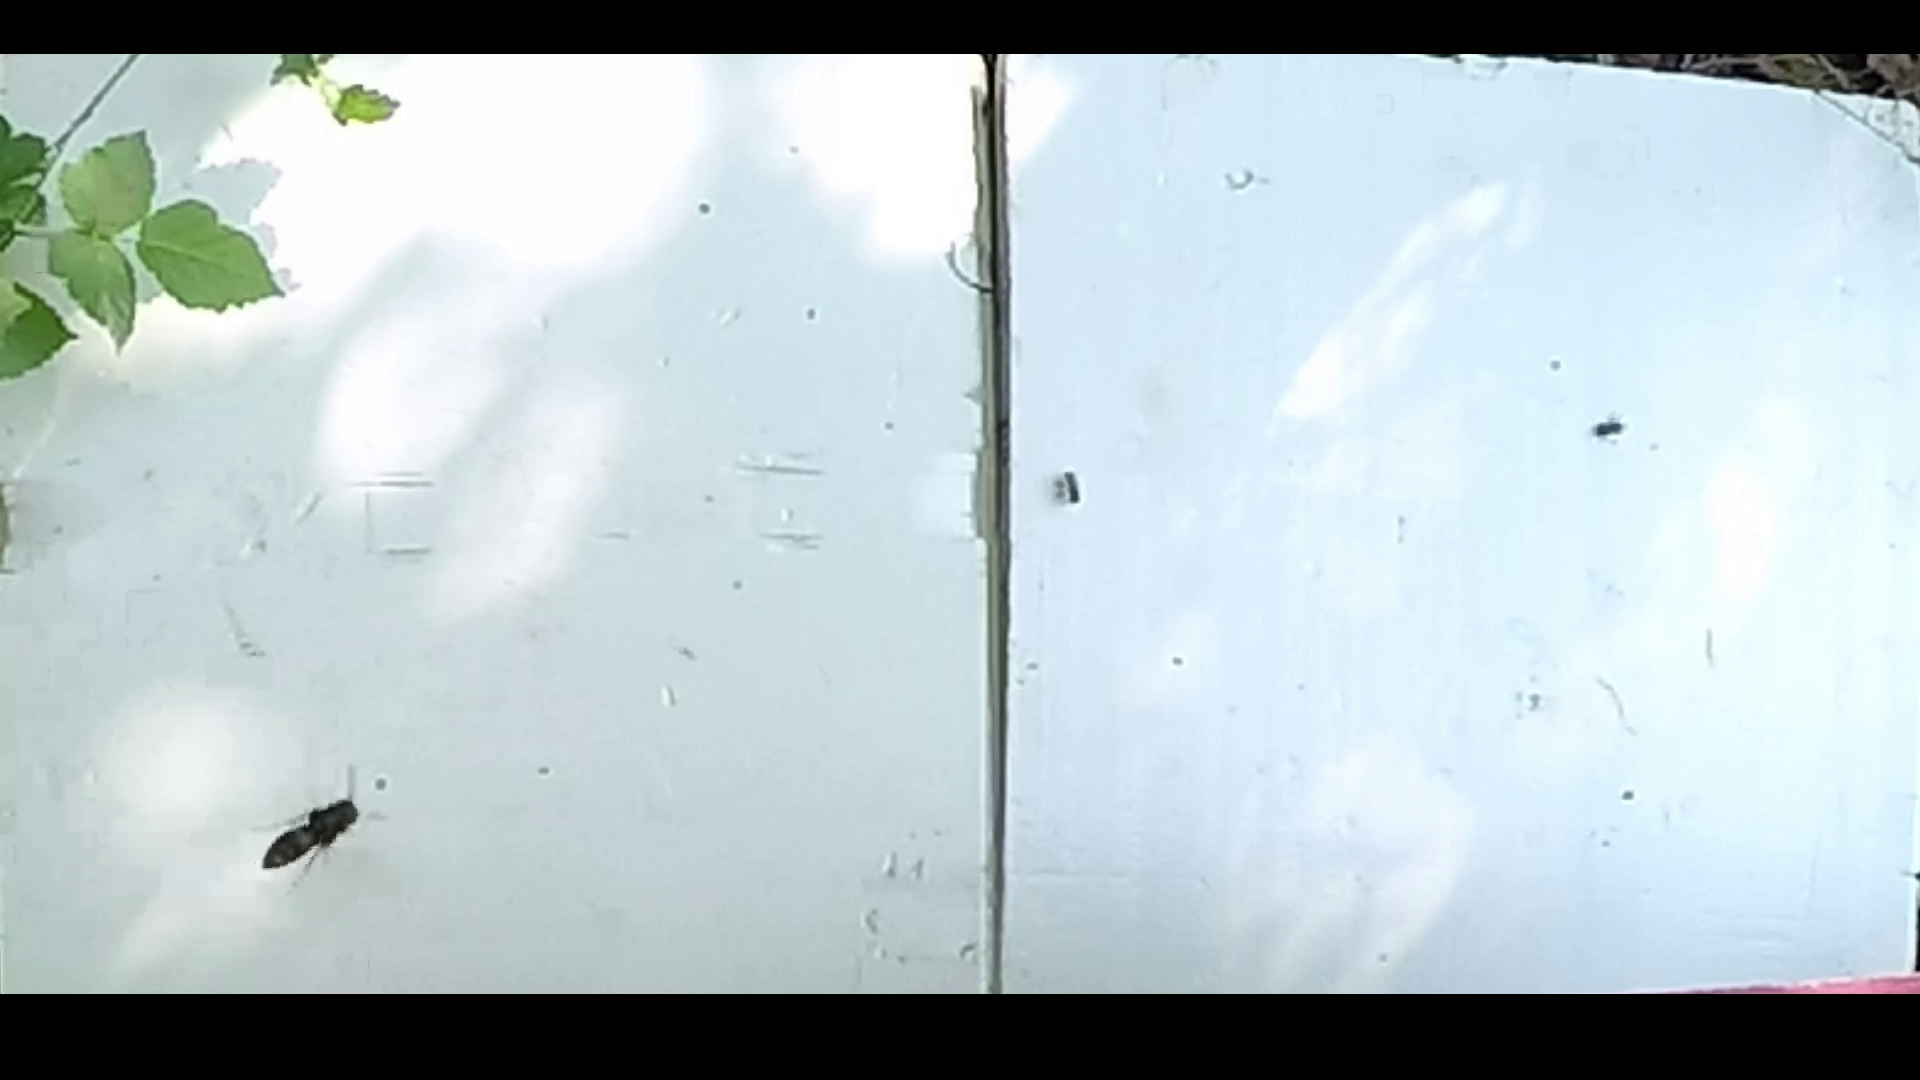Asian_hornets: (241, 748, 404, 895)
